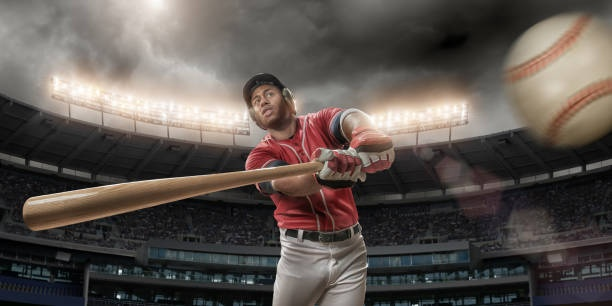bita: (29, 153, 381, 233)
